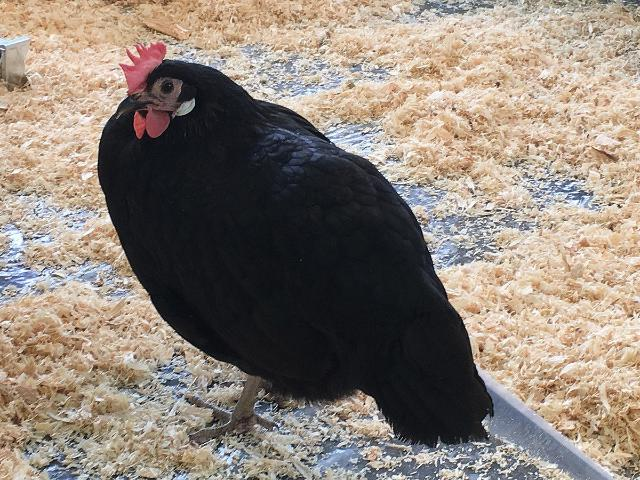Chicken: (96, 42, 495, 448)
